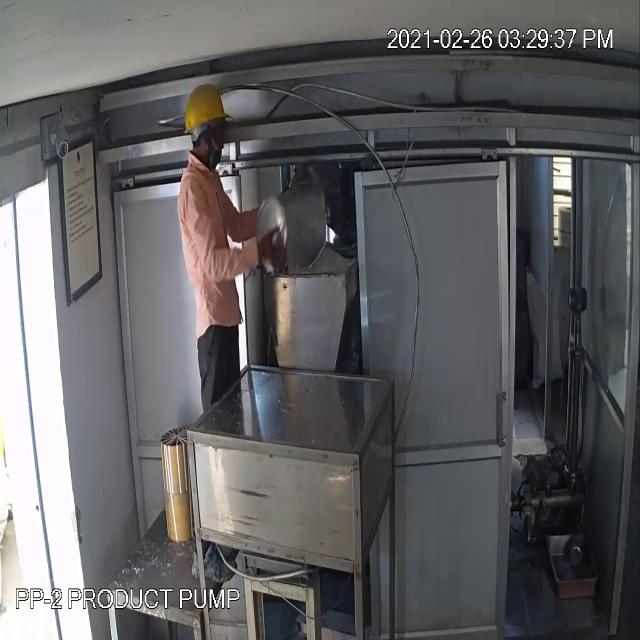Hardhat: (185, 84, 231, 132)
Safety Boots: (204, 542, 234, 582), (221, 547, 238, 563), (191, 551, 200, 578)
